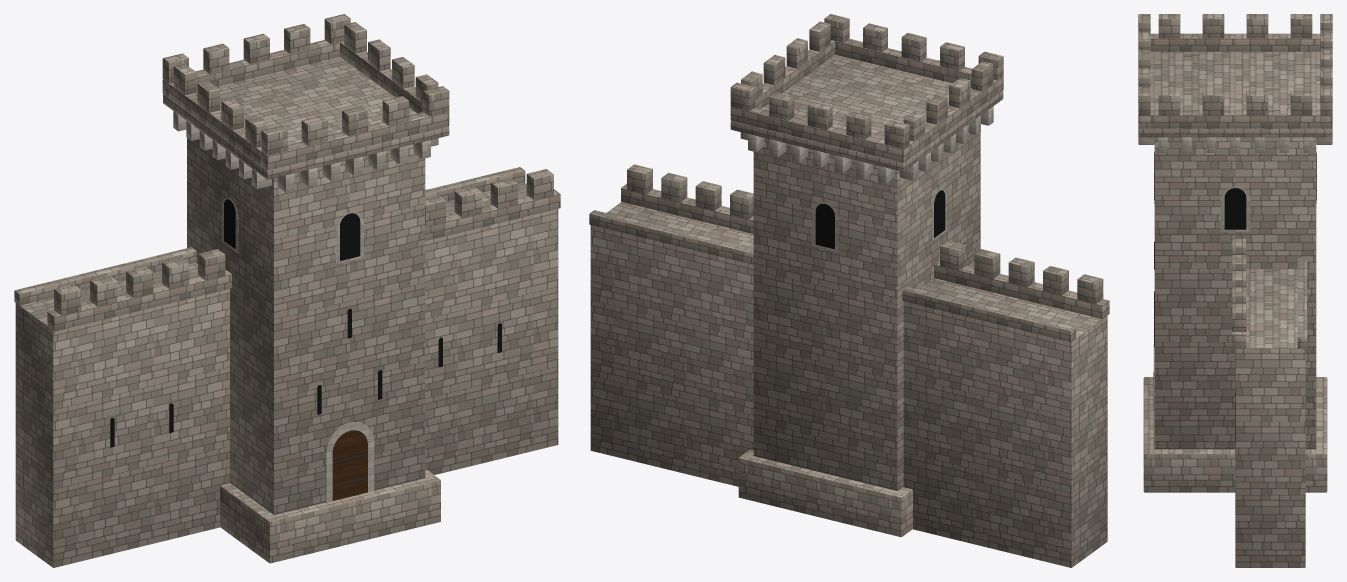
The model's file is square-wall-tower.glb.
The picture shows the model from 3 angles, left to right: view 1: azimuth 30°, elevation 25°; view 2: azimuth 150°, elevation 25°; view 3: azimuth 270°, elevation 25°; orthographic projection. The views are drawn at different scales.
Parts seen in each view (by area): view 1: Square_Wall_Tower; view 2: Square_Wall_Tower; view 3: Square_Wall_Tower.
Boxes of the visible parts, left/top/right/bottom form: Square_Wall_Tower: left=14, top=14, right=560, bottom=567; Square_Wall_Tower: left=589, top=14, right=1109, bottom=567; Square_Wall_Tower: left=1138, top=14, right=1332, bottom=567.
Bounding box in the file's own units: 20.02 × 16.35 × 7.2.
5 materials, 3 textured.
